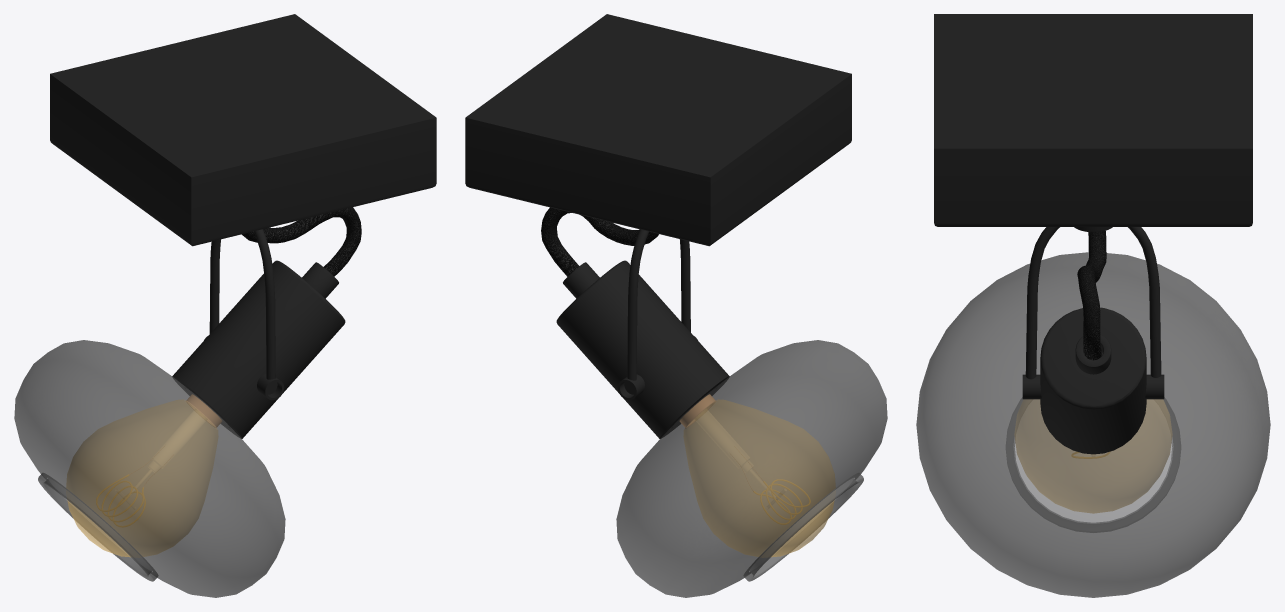
Rendered from lampara-reactor.glb.
The picture shows the model from 3 angles, left to right: view 1: azimuth 30°, elevation 25°; view 2: azimuth 150°, elevation 25°; view 3: azimuth 270°, elevation 25°; orthographic projection. The views are drawn at different scales.
Parts seen in each view (by area): view 1: Cube.001_5, Sphere.001_8, Sphere_3, Cylinder.001_7, Cylinder.002_9, Cylinder.003_10, Cylinder.007_1, Cylinder.005_12, Light_2; view 2: Cube.001_5, Sphere.001_8, Sphere_3, Cylinder.001_7, Cylinder.002_9, Cylinder.005_12, Cylinder.007_1, Cylinder.003_10, Light_2; view 3: Sphere.001_8, Cube.001_5, Cylinder.001_7, Sphere_3, Cylinder.002_9, Cylinder.003_10, Cylinder.005_12, Cylinder.004_11.
Boxes of the visible parts, left/top/right/bottom form: Cube.001_5: left=50, top=14, right=436, bottom=246; Sphere.001_8: left=14, top=340, right=285, bottom=597; Sphere_3: left=66, top=399, right=218, bottom=557; Cylinder.001_7: left=172, top=260, right=345, bottom=438; Cylinder.002_9: left=241, top=207, right=361, bottom=276; Cylinder.003_10: left=254, top=229, right=275, bottom=379; Cylinder.007_1: left=115, top=409, right=206, bottom=509; Cylinder.005_12: left=209, top=239, right=220, bottom=333; Light_2: left=96, top=461, right=152, bottom=527; Cube.001_5: left=465, top=14, right=851, bottom=246; Sphere.001_8: left=616, top=340, right=887, bottom=597; Sphere_3: left=683, top=399, right=835, bottom=557; Cylinder.001_7: left=556, top=260, right=729, bottom=438; Cylinder.002_9: left=541, top=207, right=658, bottom=276; Cylinder.005_12: left=627, top=229, right=648, bottom=380; Cylinder.007_1: left=695, top=409, right=786, bottom=509; Cylinder.003_10: left=679, top=239, right=690, bottom=332; Light_2: left=743, top=462, right=810, bottom=524; Sphere.001_8: left=916, top=252, right=1270, bottom=597; Cube.001_5: left=934, top=14, right=1252, bottom=226; Cylinder.001_7: left=1040, top=307, right=1146, bottom=454; Sphere_3: left=1014, top=399, right=1172, bottom=513; Cylinder.002_9: left=1077, top=231, right=1106, bottom=360; Cylinder.003_10: left=1025, top=227, right=1059, bottom=379; Cylinder.005_12: left=1128, top=227, right=1161, bottom=377; Cylinder.004_11: left=1022, top=374, right=1164, bottom=399.
Size of the model in its own units: 0.1195 by 0.1665 by 0.1.
Materials: 6 (6 with a texture image).
